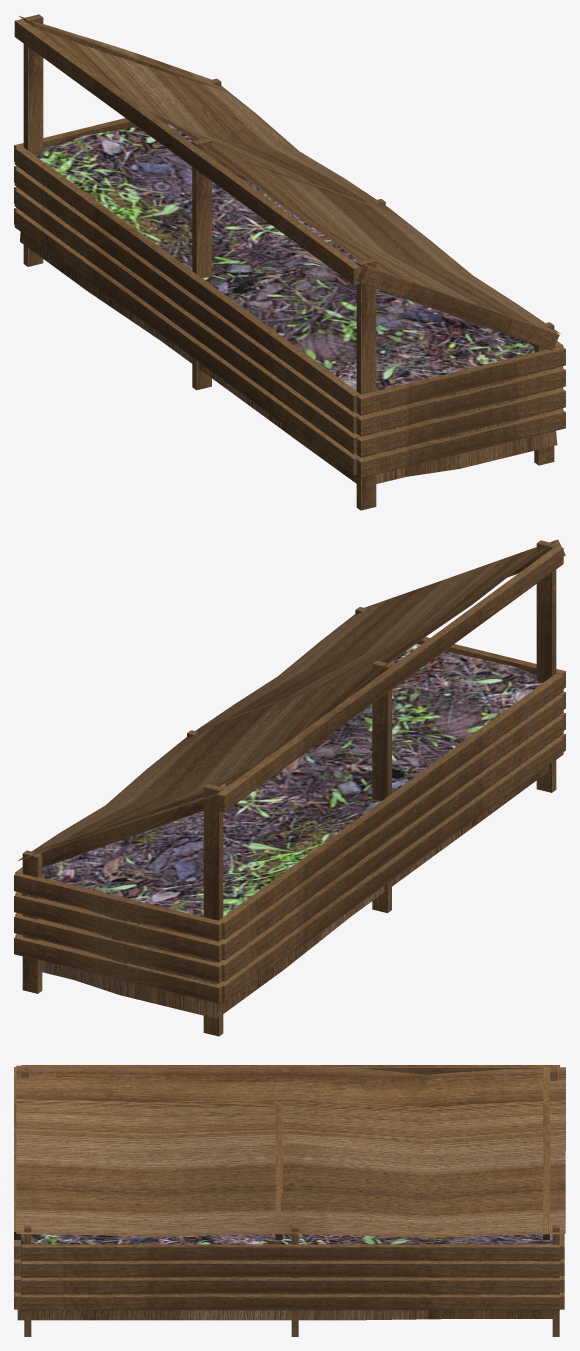
The model's file is planter_box.FBX.
The picture shows the model from 3 angles, top to bottom: view 1: azimuth 30°, elevation 25°; view 2: azimuth 150°, elevation 25°; view 3: azimuth 270°, elevation 25°; orthographic projection. The views are drawn at different scales.
Visible parts, largest first — view 1: planter008; view 2: planter008; view 3: planter008.
Boxes of the visible parts, x1,y1,x2,y2 form: planter008: (14, 14, 565, 510); planter008: (14, 539, 565, 1036); planter008: (14, 1065, 565, 1336).
Bounding box in the file's own units: 50.64 × 146 × 57.12.
2 materials, 2 textured.
